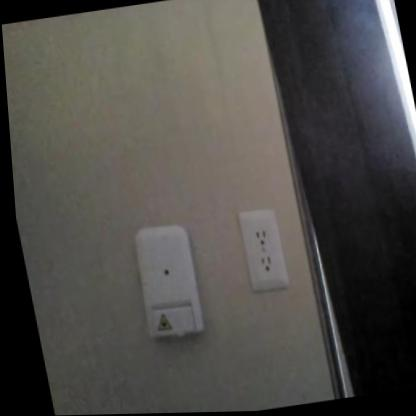OUTLET: (236, 206, 290, 292)
